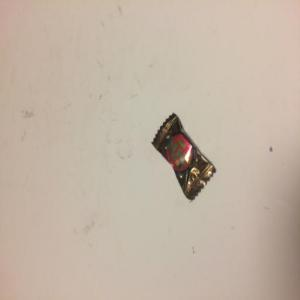Trash: (151, 113, 217, 203)
